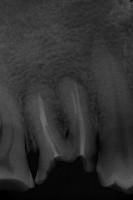Endo-Periodontal Lesion: (54, 112, 73, 144)
Furcation Involvement: (58, 72, 89, 89)
